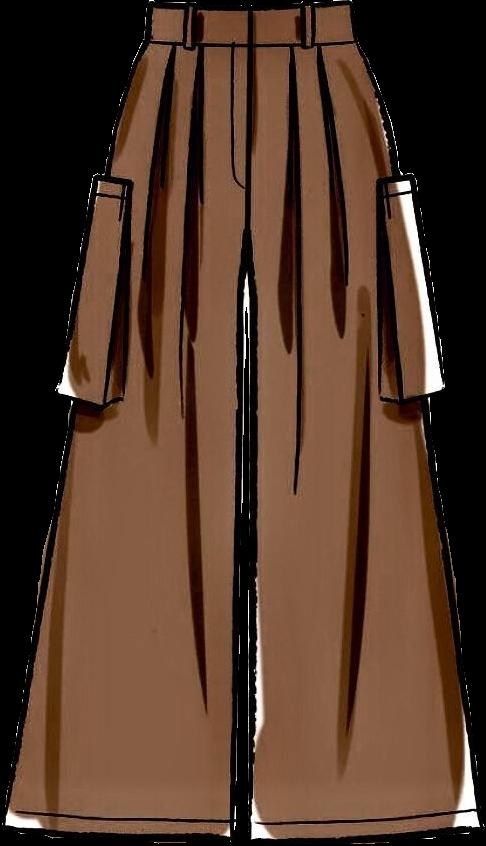Hemline: (1, 816, 240, 842), (249, 819, 483, 845)
Pantleg: (5, 2, 244, 841), (244, 0, 478, 842)
Waistline: (141, 31, 357, 50), (143, 0, 353, 15)
